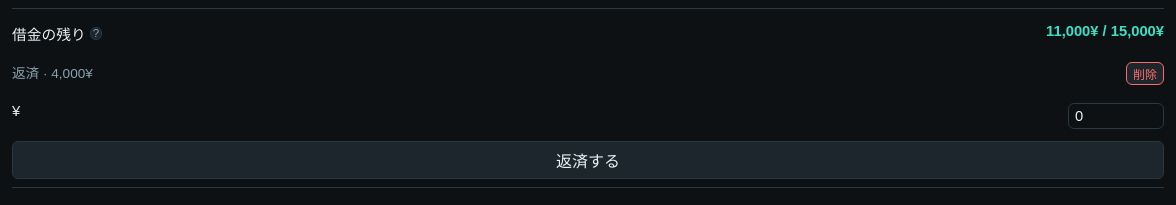
<SidebarDebt> › adds a payment, no more than is left
This screenshot has width=1176, height=205.
Replace the text in the number field named "返済額" with "20000" at x=1116, y=116, box x1=1068 y1=103 x2=1164 y2=129
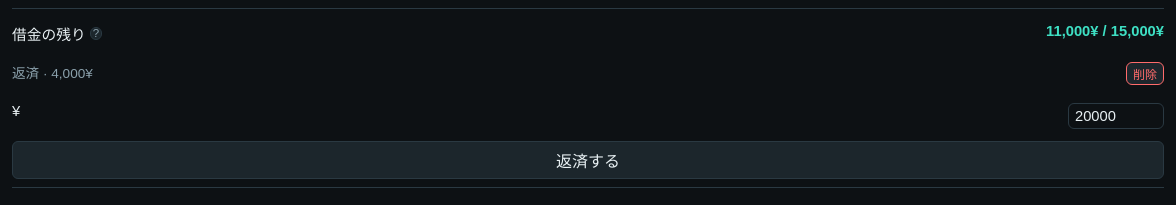
Click the button "返済する".
click(588, 160)  # box x1=12 y1=141 x2=1164 y2=179
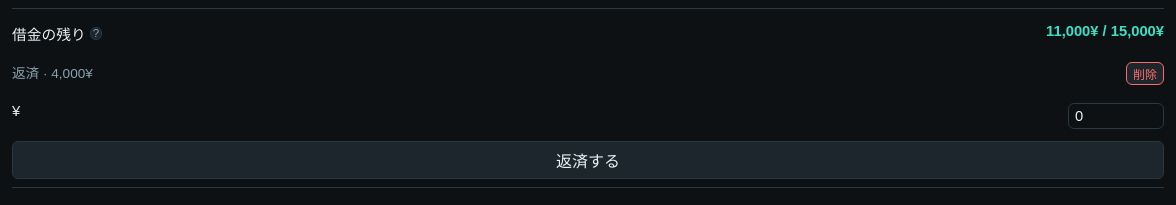
Expected: the number field named "返済額" holds "0", x1=1068 y1=103 x2=1164 y2=129
